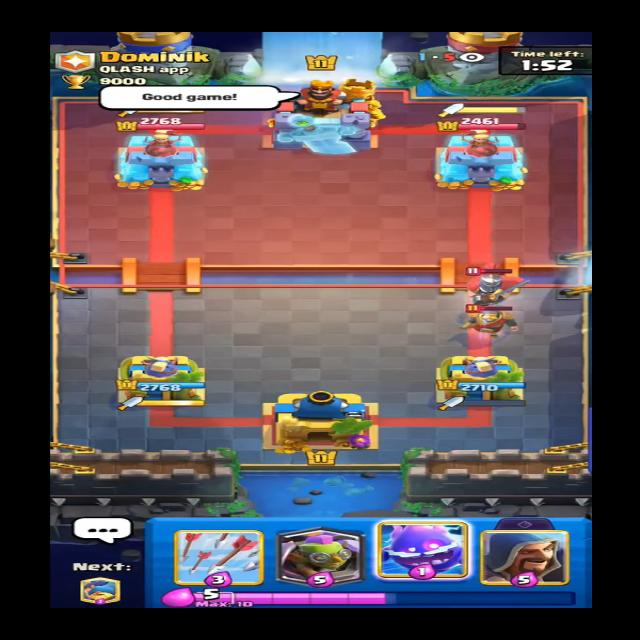guardian: (454, 264, 538, 302)
knight: (458, 299, 520, 337)
